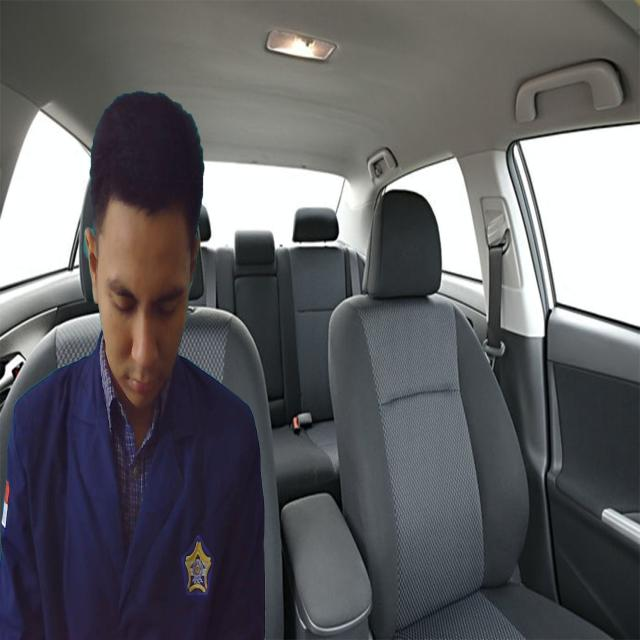no-seatbelt: (99, 185, 189, 414)
